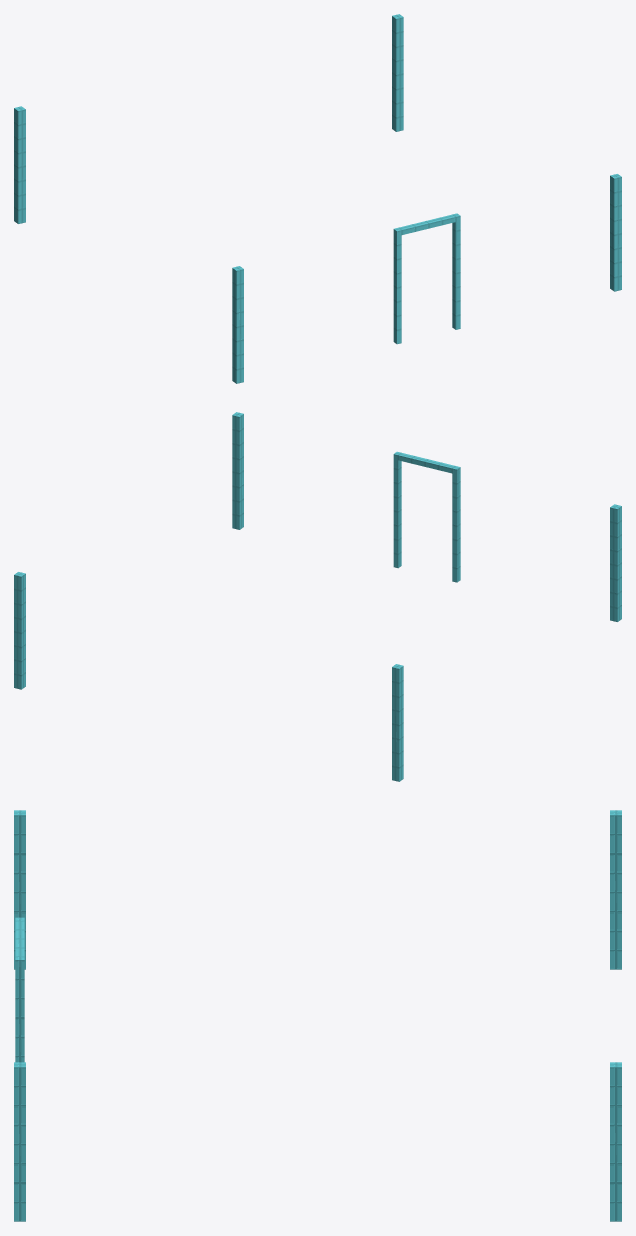
Rendered from accent-6.glb.
The picture shows the model from 3 angles, top to bottom: view 1: azimuth 30°, elevation 25°; view 2: azimuth 150°, elevation 25°; view 3: azimuth 270°, elevation 25°; orthographic projection. The views are drawn at different scales.
Visible parts, largest first — view 1: accent-6; view 2: accent-6; view 3: accent-6.
Boxes of the visible parts, box(x1,y1,x2,y2) form: accent-6: box(14, 14, 621, 383); accent-6: box(14, 412, 621, 781); accent-6: box(14, 810, 621, 1221).
Bounding box in the file's own units: 14.28 × 4 × 14.28.
Materials: 1 (1 with a texture image).
